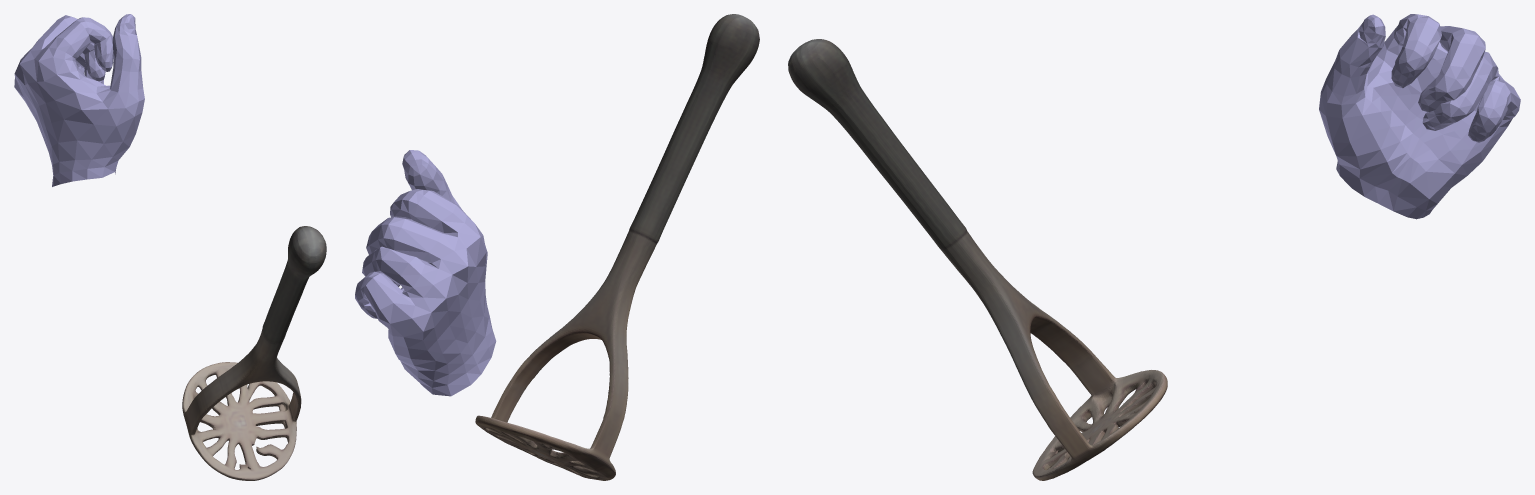
File: frame_0088_source_000088_hand_object.glb
3 renders of one model, left to right at view 1: azimuth 30°, elevation 25°; view 2: azimuth 150°, elevation 25°; view 3: azimuth 270°, elevation 25°, orthographic. The views are drawn at different scales.
Visible parts, largest first — view 1: world; view 2: world; view 3: world.
Part boxes in pixels (x1=…): world: x1=14, y1=14, x2=326, y2=480; world: x1=355, y1=14, x2=759, y2=480; world: x1=788, y1=14, x2=1520, y2=480.
Bounding box in the file's own units: 0.0935 × 0.255 × 0.3698.
